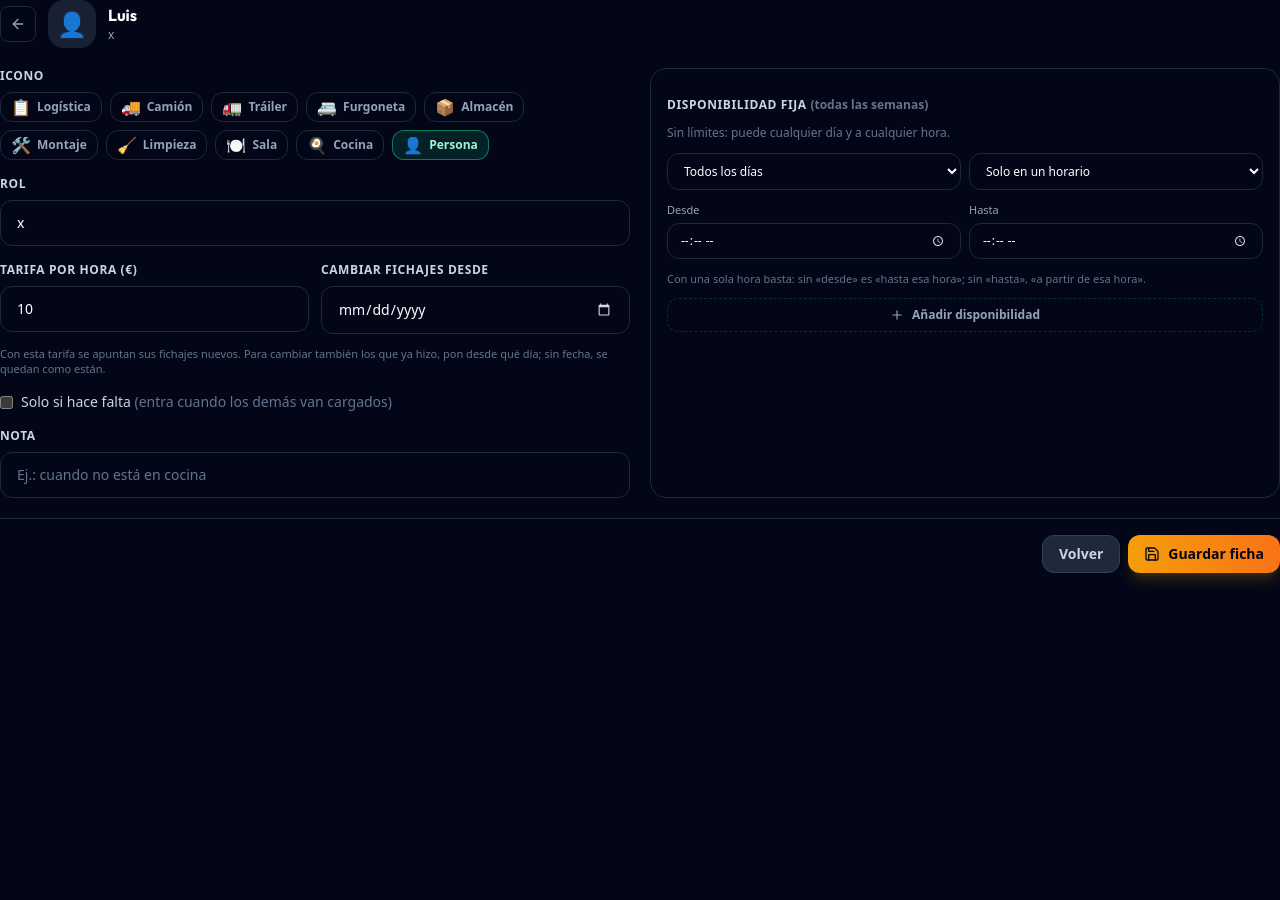
Test case: FichaTrabajador — grupos de días › tarifa por hora › si algún fichaje no se guarda, lo dice y deja la fecha para repetirlo
This screenshot has width=1280, height=900.
Step 1. Replace the text in the number field labelled "Tarifa por hora (€)" with "12" → x=154, y=309, box [0,286,309,332]
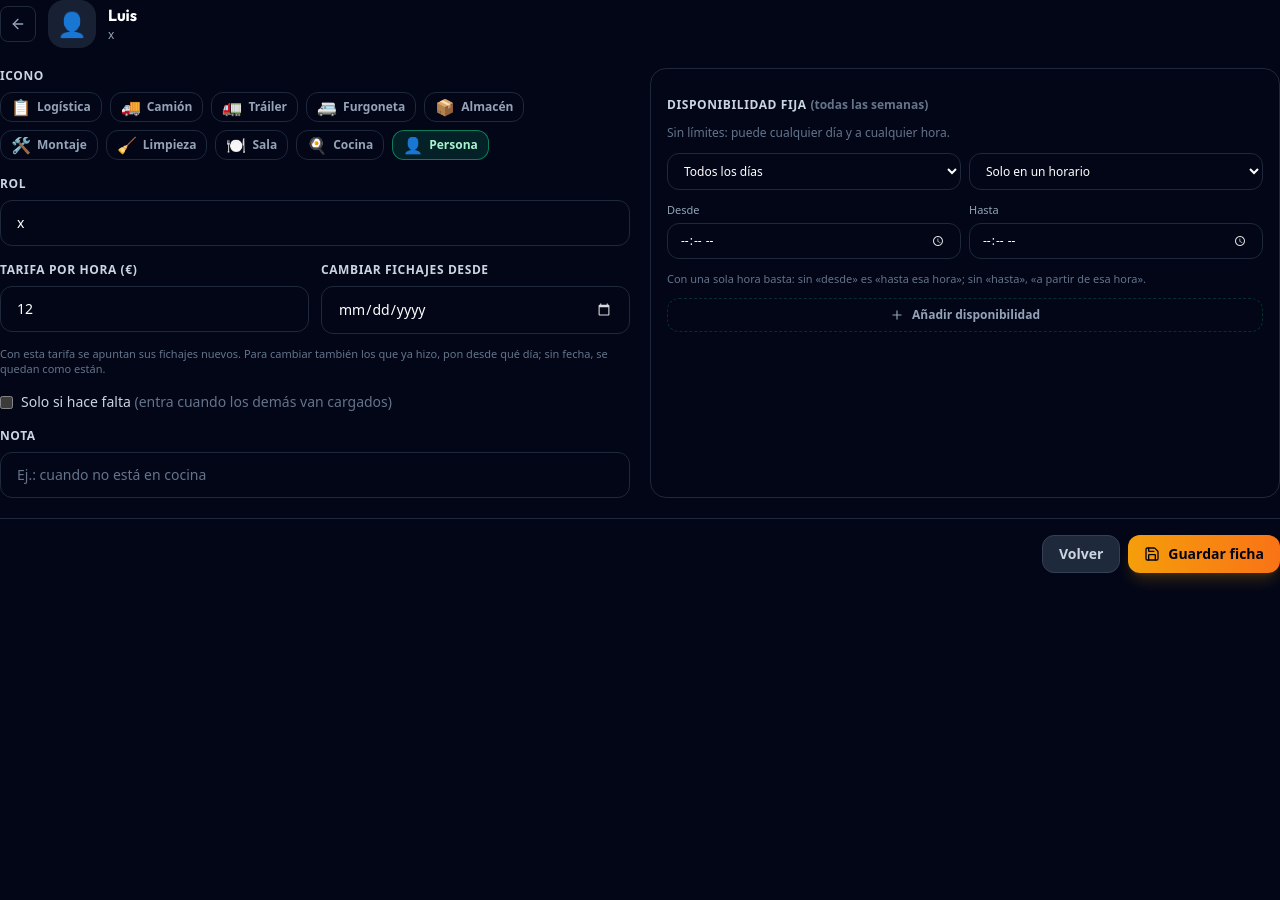
Step 2. Type "2026-10-04" into the date field labelled "Cambiar fichajes desde" → x=476, y=310, box [321,286,630,334]
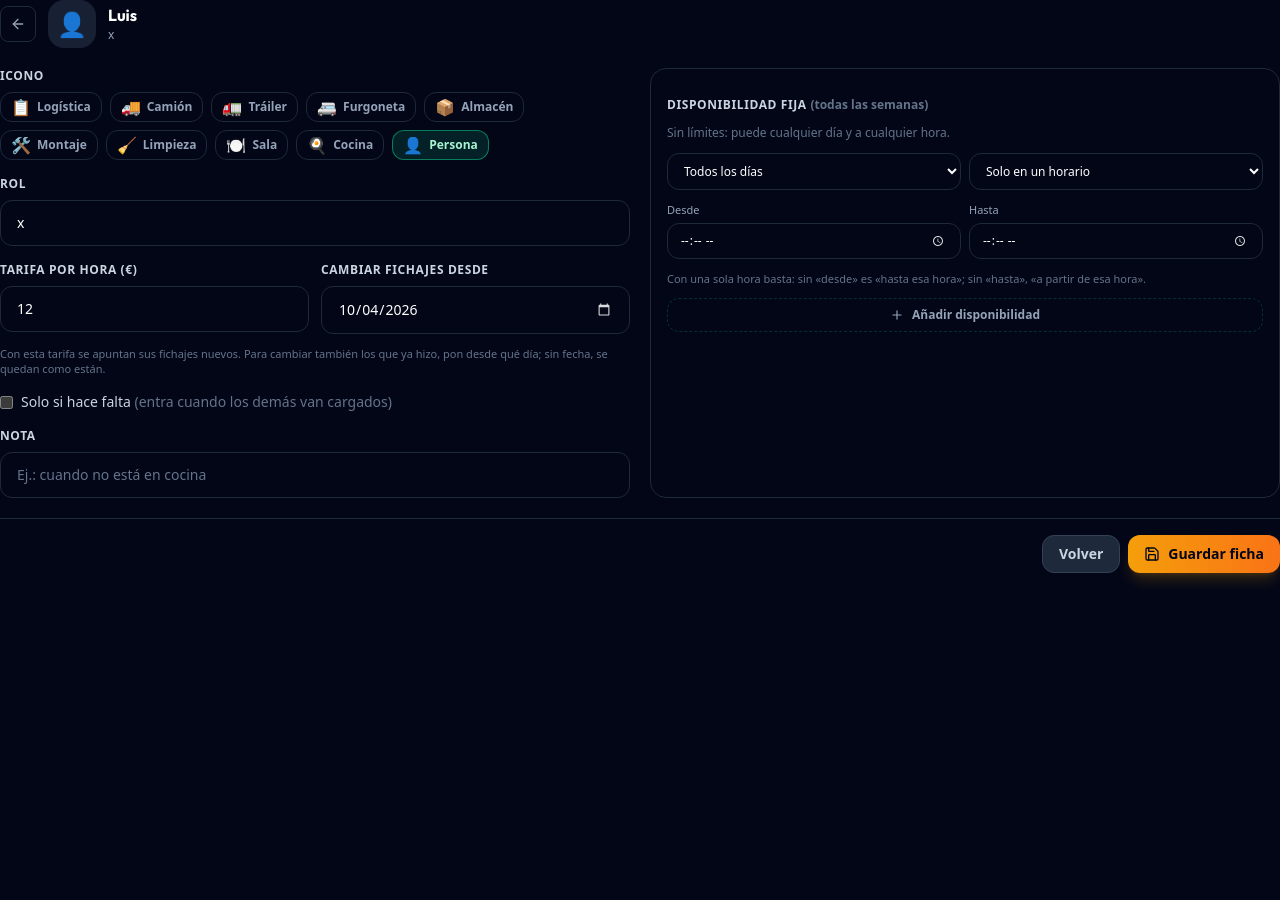
Step 3. Click the button "Guardar ficha" → x=1204, y=554, box [1128,535,1279,573]
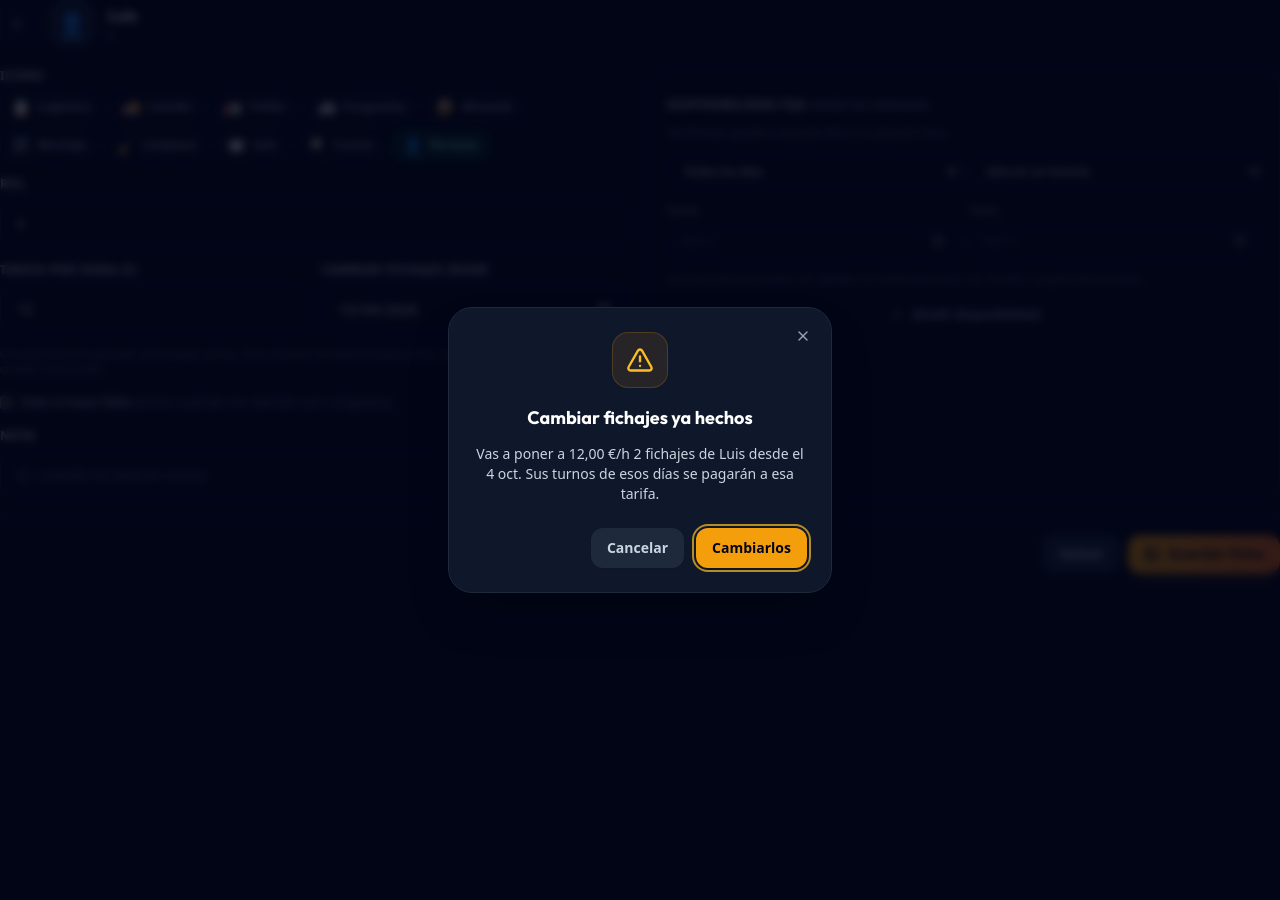
Step 4. Click the button "Cambiarlos" → x=752, y=548, box [696,528,807,568]
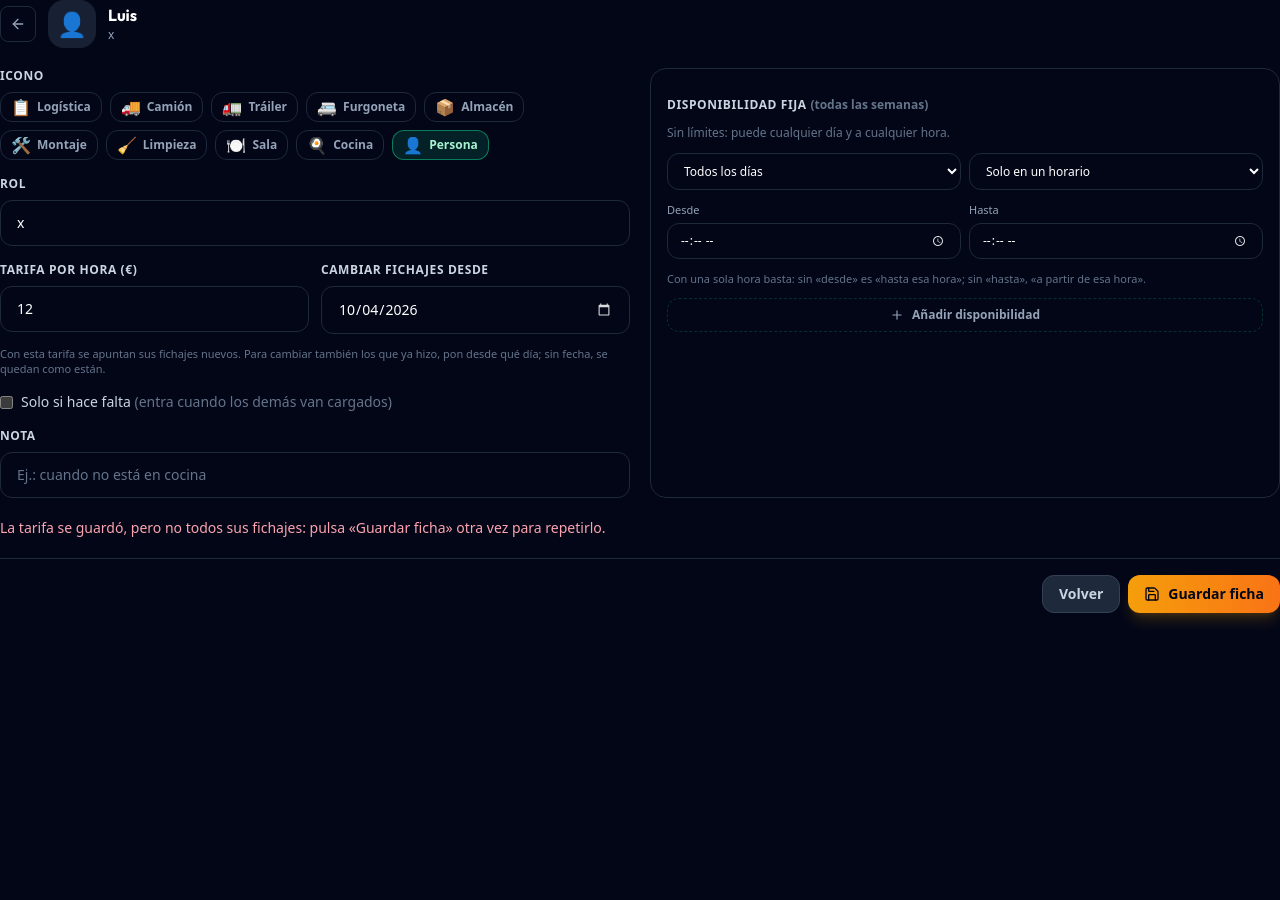
Expected: the message shows "no todos sus fichajes", [0,518,606,537]
